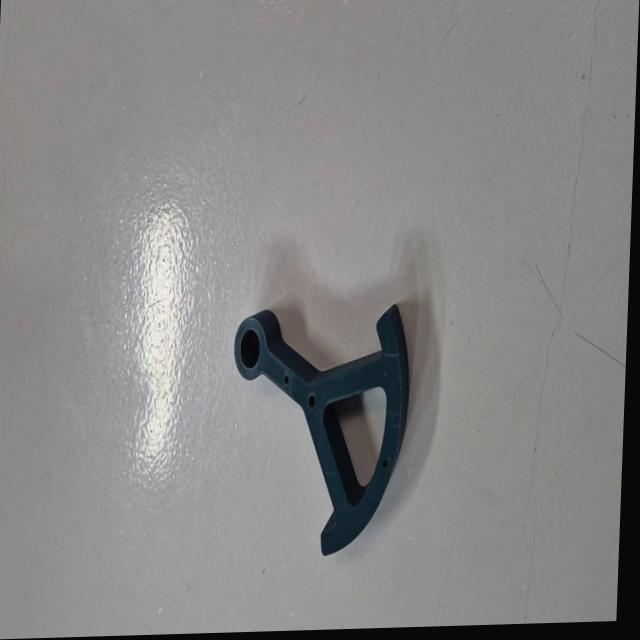haptic: (224, 301, 412, 561)
